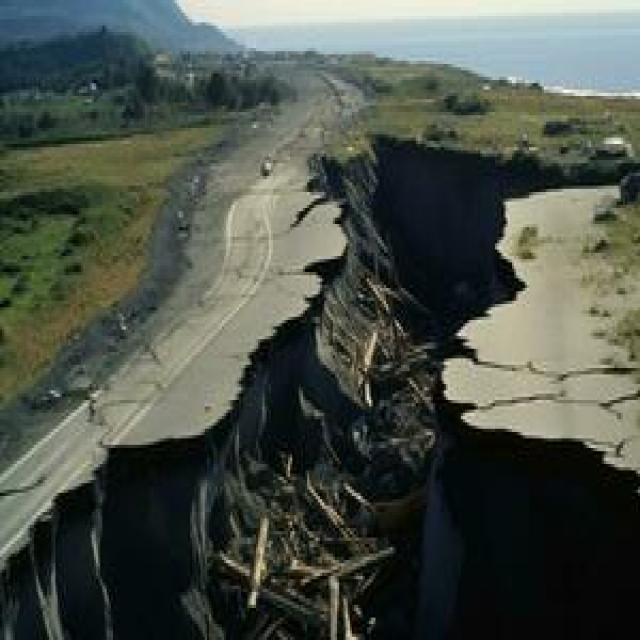road collapse: (6, 6, 640, 637)
